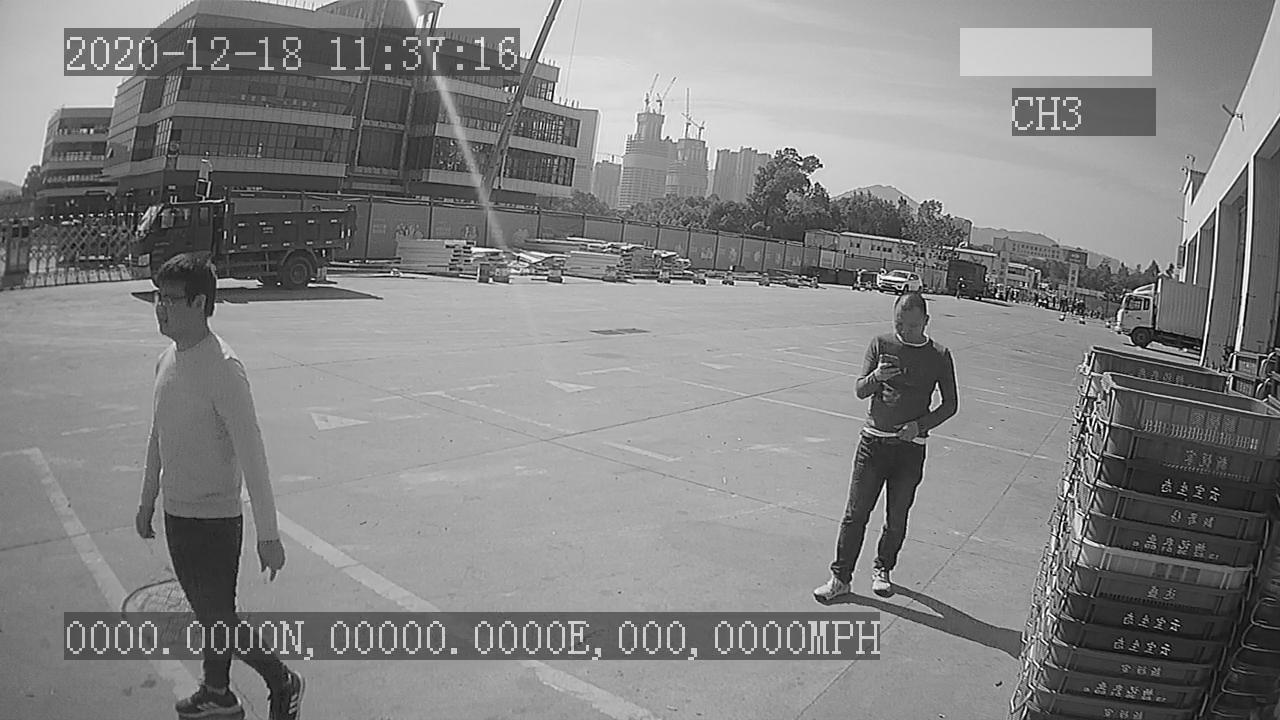person: (813, 291, 959, 605)
